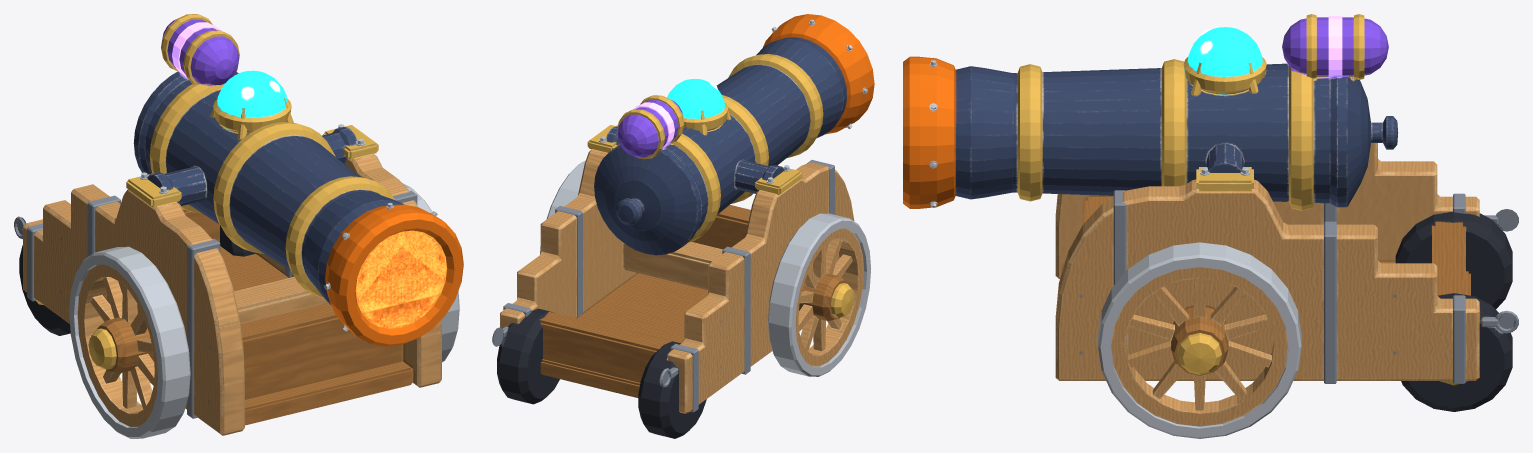
Rendered from Wrecker_v2.glb.
3 renders of one model, left to right at view 1: azimuth 30°, elevation 25°; view 2: azimuth 150°, elevation 25°; view 3: azimuth 270°, elevation 25°, orthographic. The views are drawn at different scales.
Parts seen in each view (by area): view 1: Carriage, Barrel, Wheel_FR, Slot_Booster, Slot_Module, Slot_Core, Wheel_FL, Wheel_RR; view 2: Carriage, Barrel, Wheel_FR, Slot_Booster, Wheel_RL, Wheel_RR, Slot_Module, Slot_Core, Wheel_FL; view 3: Carriage, Barrel, Wheel_FL, Slot_Booster, Slot_Module, Wheel_RR, Wheel_RL, Slot_Core.
Part boxes in pixels (x1,y1,x2,y2): Carriage: (14,124,441,435); Barrel: (133,71,403,305); Wheel_FR: (69,246,190,438); Slot_Booster: (324,202,463,346); Slot_Module: (161,14,239,85); Slot_Core: (210,70,293,139); Wheel_FL: (402,183,459,362); Wheel_RR: (19,245,70,335); Carriage: (492,124,854,413); Barrel: (594,37,846,255); Wheel_FR: (768,213,870,376); Slot_Booster: (763,14,874,134); Wheel_RL: (497,308,559,404); Wheel_RR: (638,341,706,438); Slot_Module: (617,95,684,158); Slot_Core: (667,78,731,135); Wheel_FL: (540,160,585,254); Carriage: (1055,143,1518,383); Barrel: (955,59,1398,210); Wheel_FL: (1098,242,1301,438); Slot_Booster: (903,56,955,208); Slot_Module: (1282,14,1388,79); Wheel_RR: (1395,211,1512,308); Wheel_RL: (1401,293,1512,411); Slot_Core: (1183,27,1266,95).
Size of what is drawn, in the model's own units: 2.44 by 2.25 by 3.63.
Materials: 2 (2 with a texture image).
